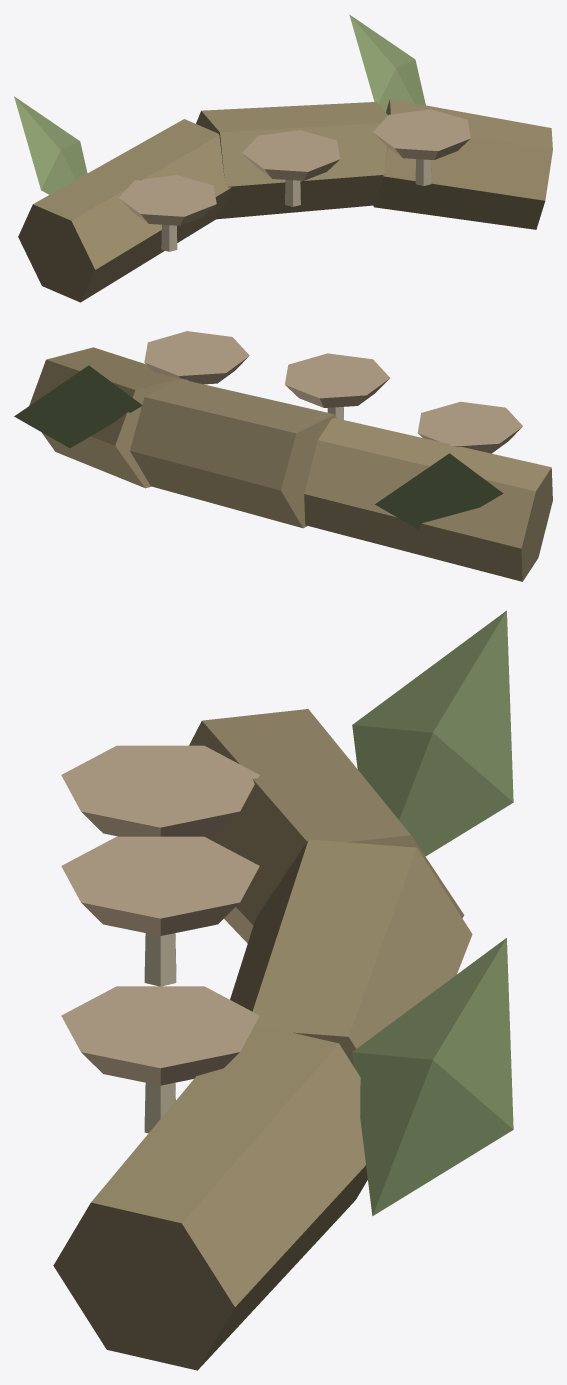
The model's file is map-exclusive-v3__meadow_15.glb.
3 views of the same model, one above another, from view 1: azimuth 30°, elevation 25°; view 2: azimuth 150°, elevation 25°; view 3: azimuth 270°, elevation 25° (orthographic). The views are drawn at different scales.
Visible parts, largest first — view 1: meadow_15; view 2: meadow_15; view 3: meadow_15.
Boxes of the visible parts, bbox=[...] form: meadow_15: bbox=[14, 14, 552, 302]; meadow_15: bbox=[14, 331, 552, 581]; meadow_15: bbox=[53, 610, 513, 1370].
Bounding box in the file's own units: 2.79 × 0.8859 × 1.13.
